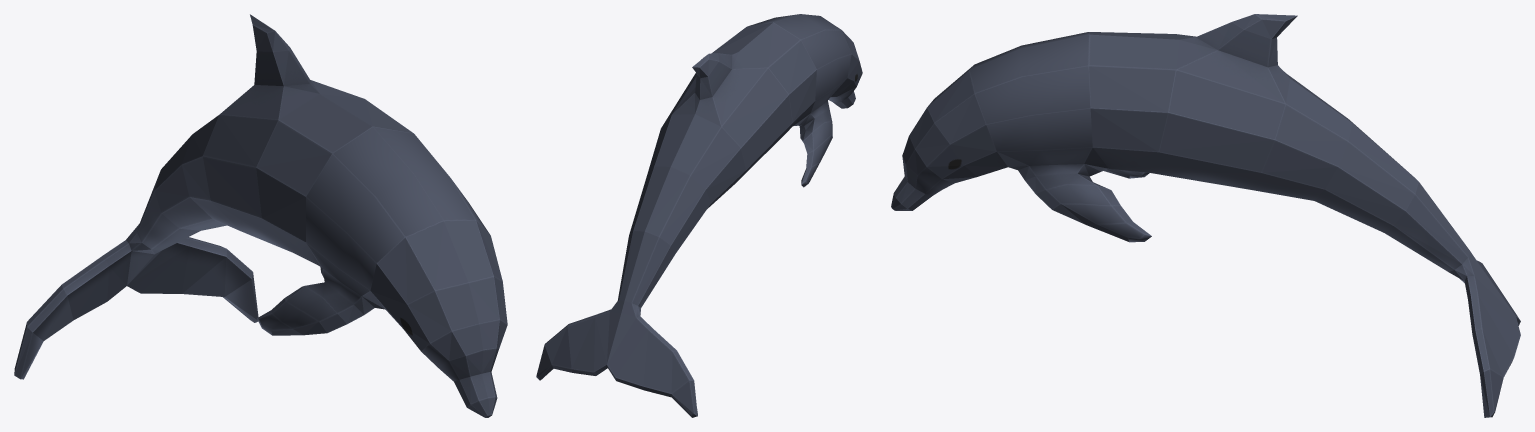
File: dolphin.dae
The picture shows the model from 3 angles, left to right: view 1: azimuth 30°, elevation 25°; view 2: azimuth 150°, elevation 25°; view 3: azimuth 270°, elevation 25°; orthographic projection. The views are drawn at different scales.
Parts seen in each view (by area): view 1: Dolphin_mesh; view 2: Dolphin_mesh; view 3: Dolphin_mesh.
Boxes of the visible parts, x1,y1,x2,y2 form: Dolphin_mesh: (14, 14, 507, 417); Dolphin_mesh: (536, 14, 862, 417); Dolphin_mesh: (891, 14, 1520, 417).
Size of the model in its own units: 563 by 1484 by 925.
Materials: 1 (1 with a texture image).
